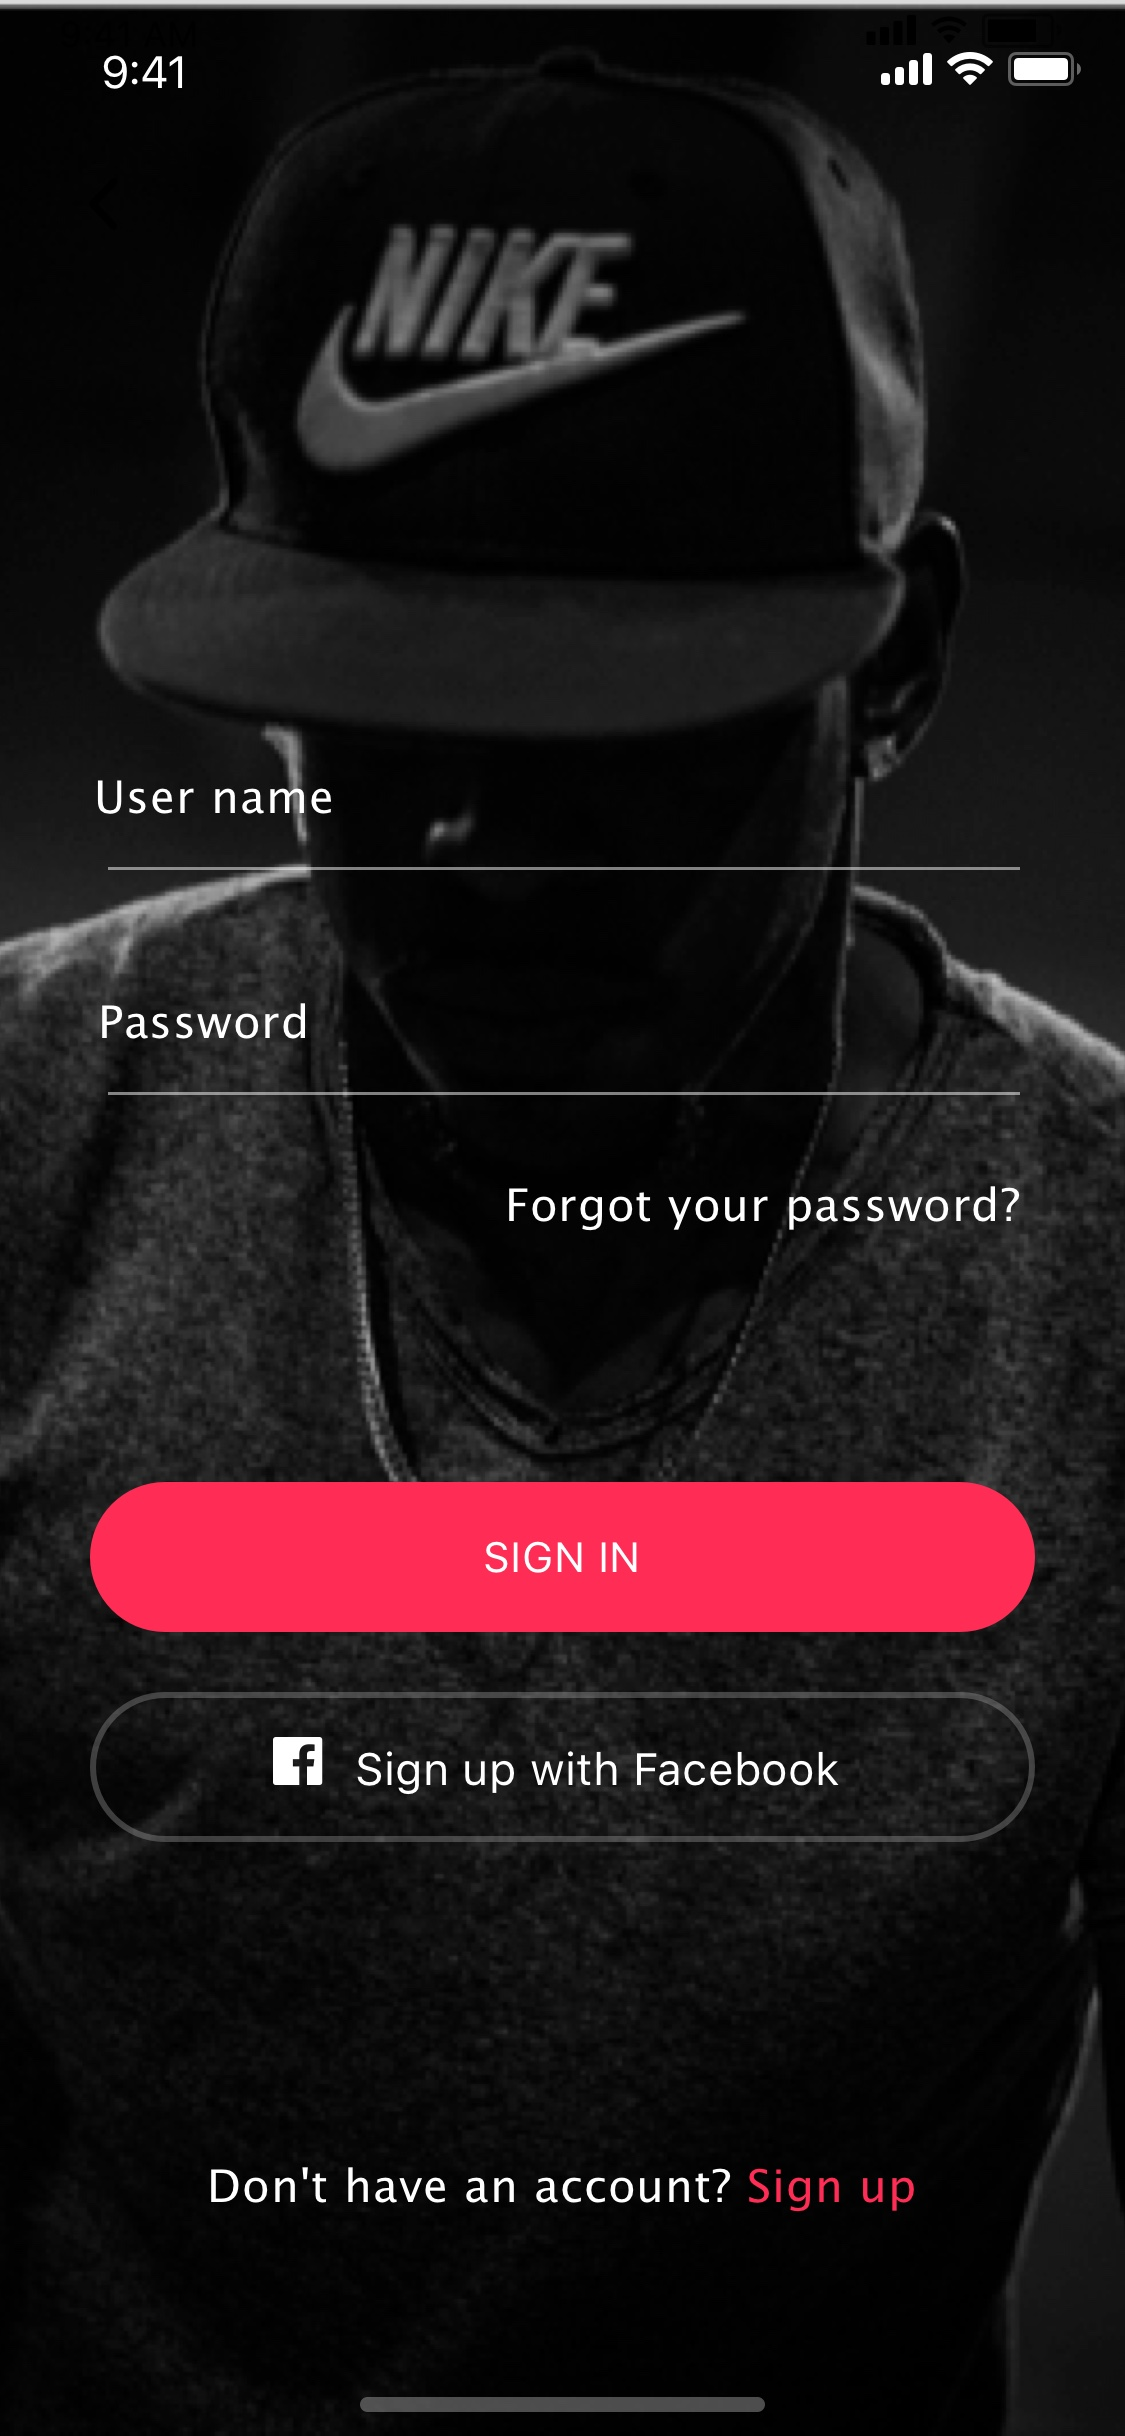BackgroundImage: (2, 3, 1125, 2436)
EditText: (98, 778, 1021, 872), (103, 1002, 1021, 1095)
Text: (211, 2166, 915, 2212), (98, 778, 333, 816), (103, 1004, 308, 1041)
TextButton: (90, 1481, 1036, 1633), (90, 1690, 1036, 1843), (508, 1185, 1019, 1232)
UpperTaskBar: (104, 51, 1081, 92)
